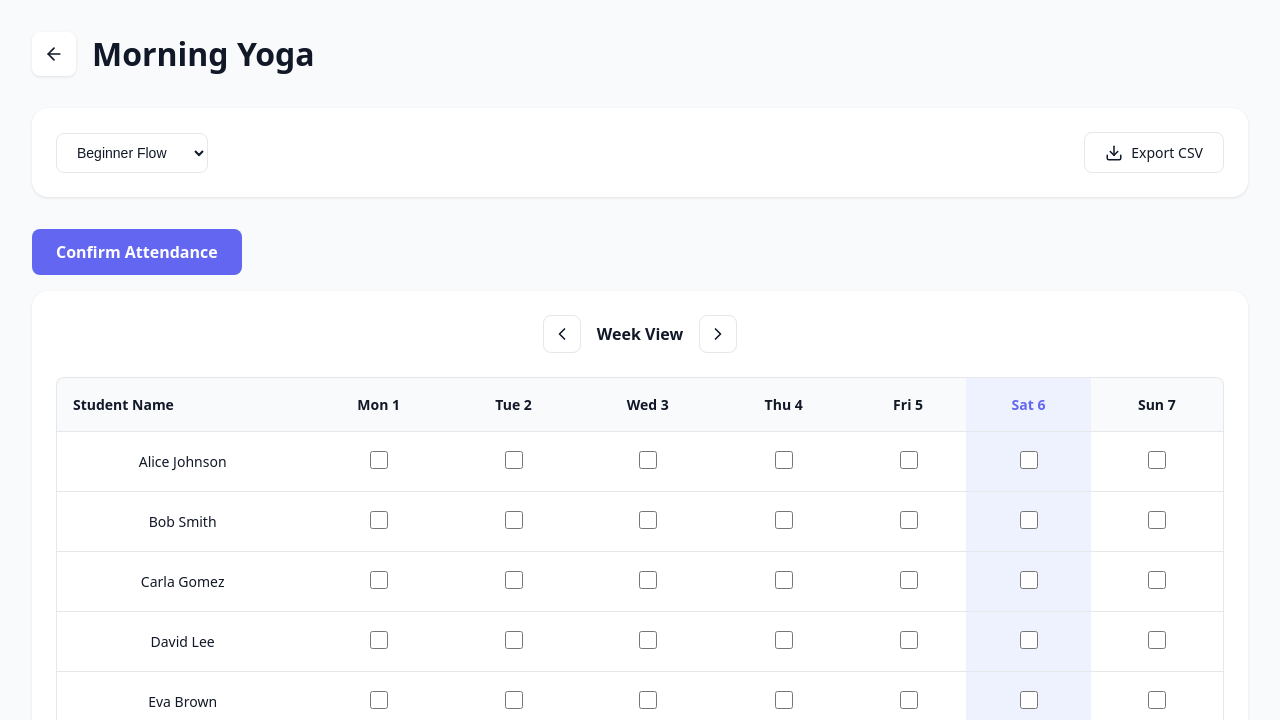
ClassAttendanceScreen › renders class name from navigation state and filters students
The image size is (1280, 720).
Check: the heading "Morning Yoga" is shown, box [92,36,315,72]
Select "Advanced Yoga" in the dropdown at (132, 152), box [56,132,208,172]
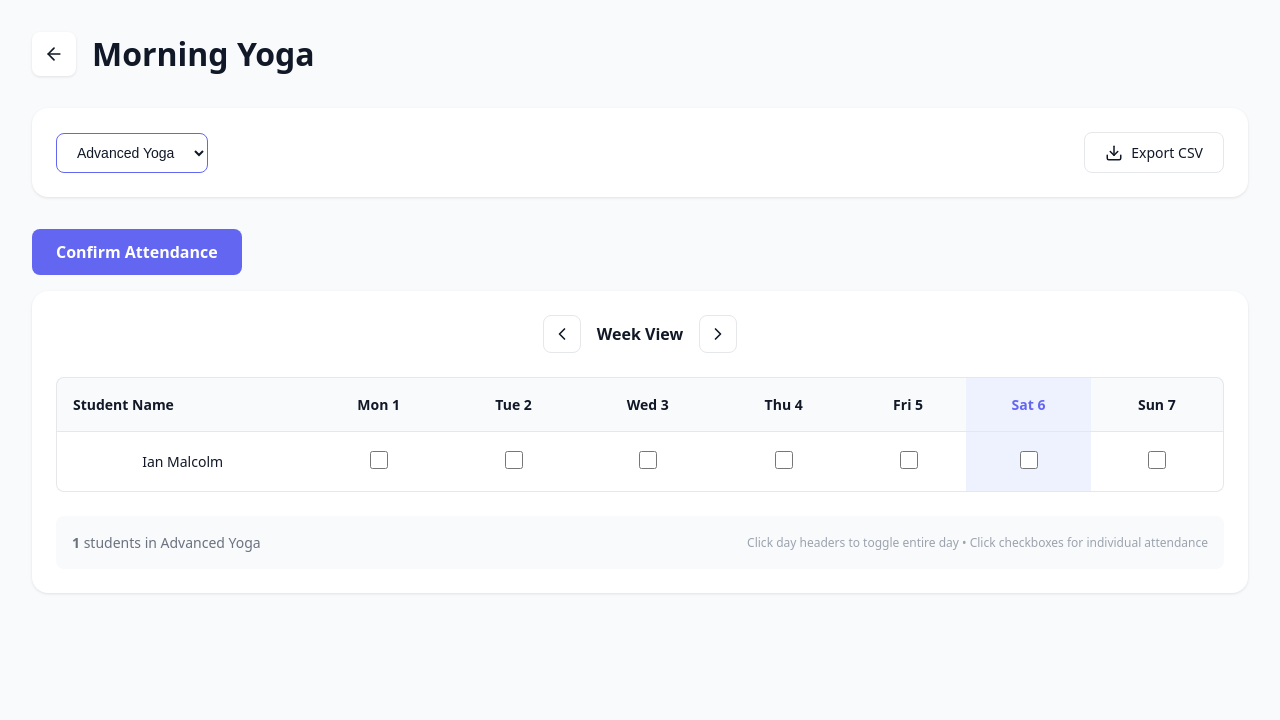
Check: the text "Ian Malcolm" is shown, box [56,432,308,492]
Check: the text "Alice Johnson" is gone
